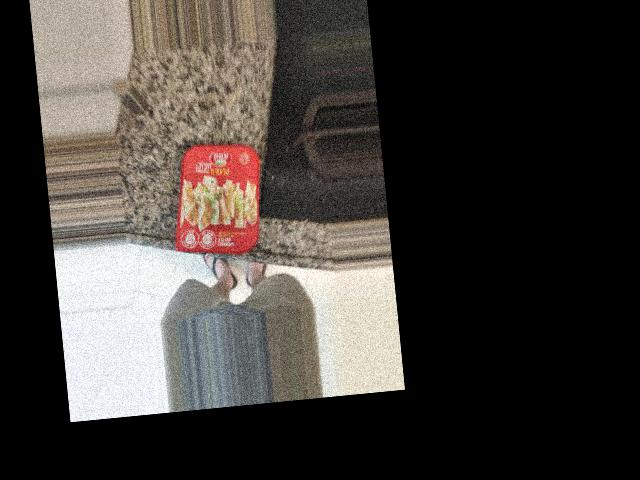cheese: (175, 98, 277, 214)
